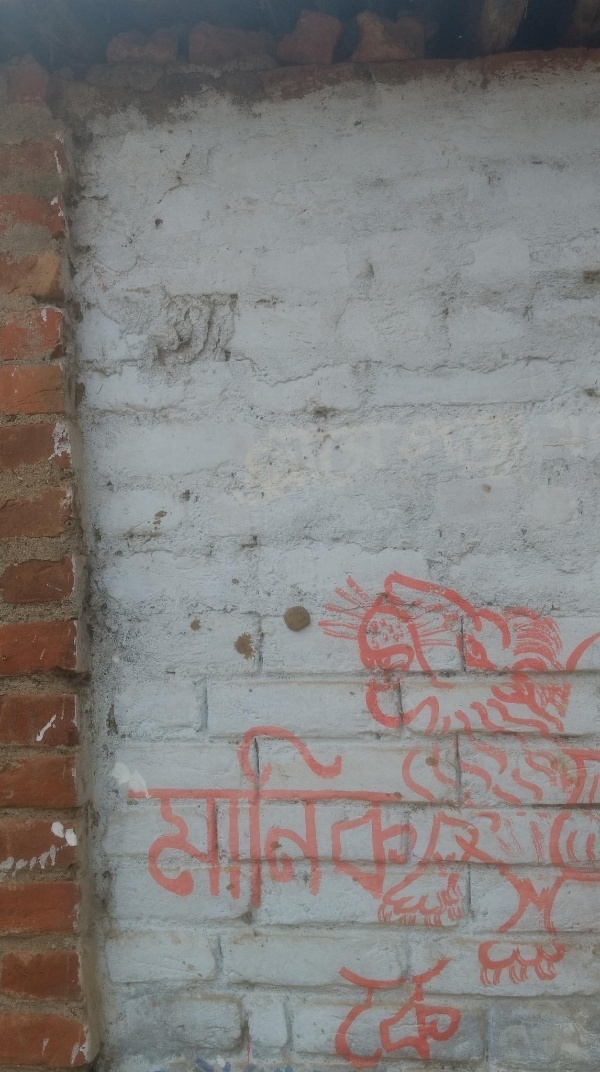text: (129, 723, 144, 943), (145, 723, 160, 943), (161, 723, 176, 943), (177, 723, 192, 943), (193, 723, 208, 943), (209, 723, 224, 943), (225, 723, 240, 943), (241, 723, 256, 943), (257, 723, 272, 943), (273, 723, 288, 943), (289, 723, 304, 943), (305, 723, 320, 943), (321, 723, 336, 943), (337, 723, 352, 943), (353, 723, 368, 943), (369, 723, 384, 943), (385, 723, 400, 943), (401, 723, 416, 943), (417, 723, 432, 943), (353, 952, 368, 1072), (369, 952, 384, 1072), (385, 952, 400, 1072), (401, 952, 416, 1072), (417, 952, 432, 1072), (433, 952, 448, 1072), (449, 952, 464, 1072), (338, 952, 352, 1072), (465, 952, 479, 1072), (241, 405, 256, 507), (257, 405, 272, 507), (273, 405, 288, 507), (289, 405, 304, 507), (305, 405, 320, 507), (321, 405, 336, 507), (337, 405, 352, 507), (353, 405, 368, 507), (369, 405, 384, 507), (385, 405, 400, 507), (401, 405, 416, 507), (417, 405, 432, 507), (433, 405, 448, 507), (449, 405, 464, 507), (465, 405, 480, 507), (481, 405, 496, 507), (497, 405, 512, 507), (513, 405, 528, 507), (529, 405, 544, 507), (545, 405, 560, 507), (561, 405, 576, 507), (577, 405, 592, 507), (125, 723, 128, 943), (433, 723, 436, 943), (593, 405, 599, 507)
